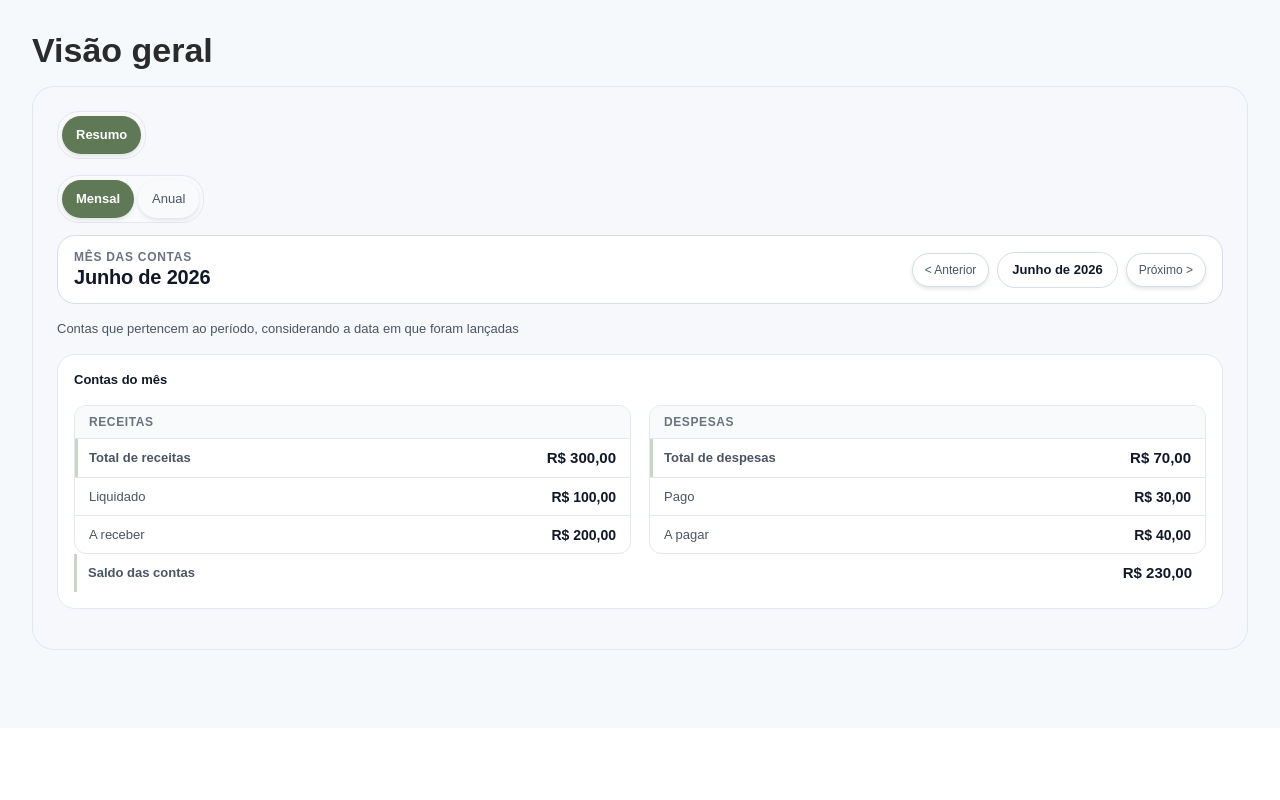
Test: Financeiro - detalhe de receitas por paciente › consulta contas mensais e anuais com parâmetros exclusivos e a mesma base no gráfico
Expected: the heading "Contas do mês" is shown, [74, 371, 167, 389]
Click the button "Anual": x=169, y=199 [138, 180, 199, 218]
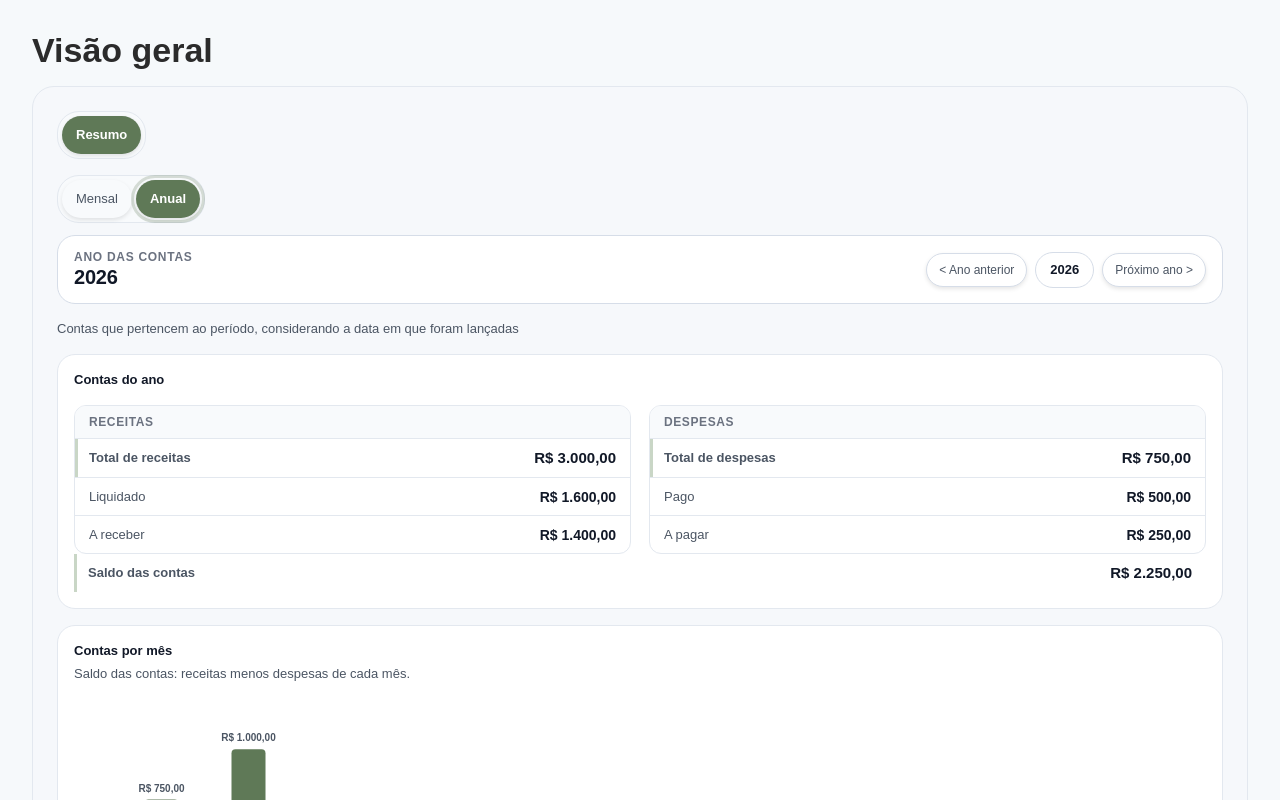
Result: the heading "Contas do ano" is shown at [74, 371, 164, 389]
Click the button "Mensal": x=97, y=199 [62, 180, 132, 218]
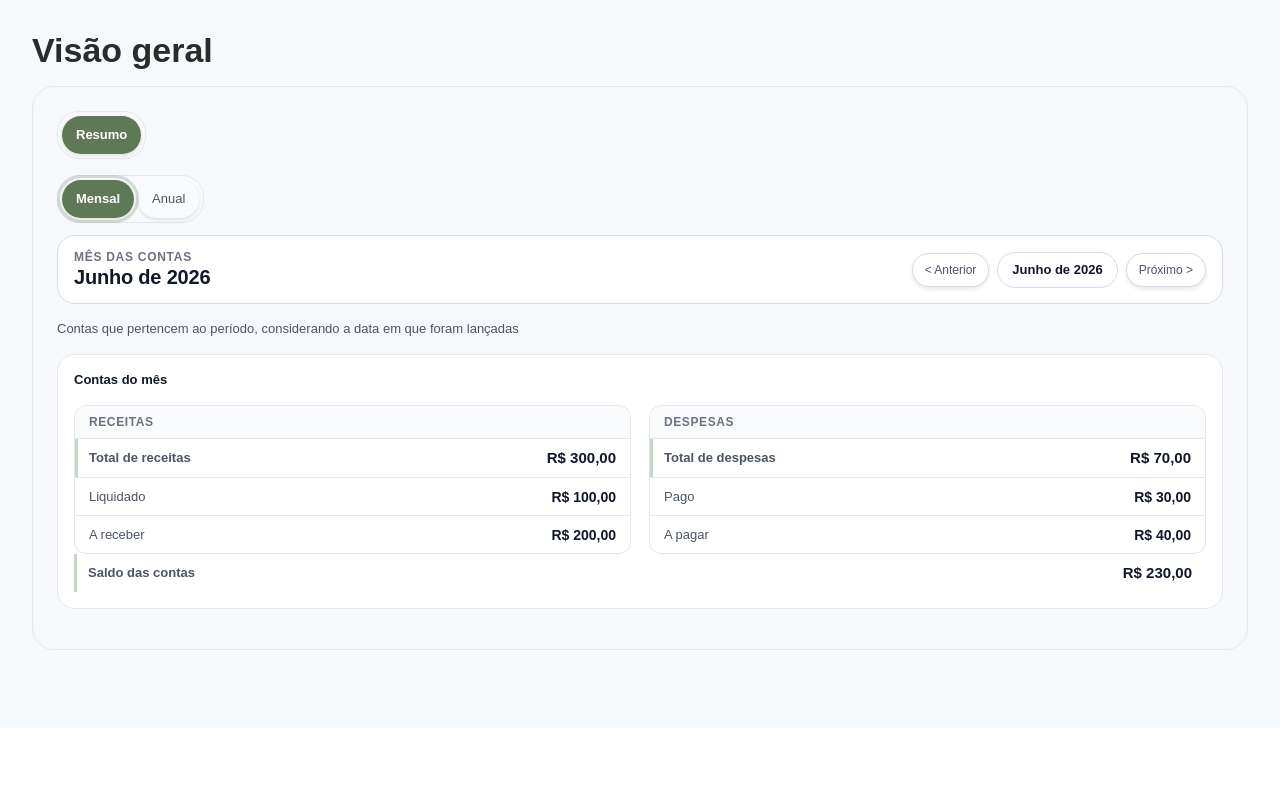
Result: the heading "Contas do mês" is shown at [74, 371, 167, 389]
